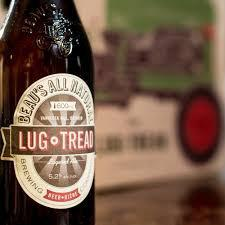beer: (1, 1, 96, 224)
